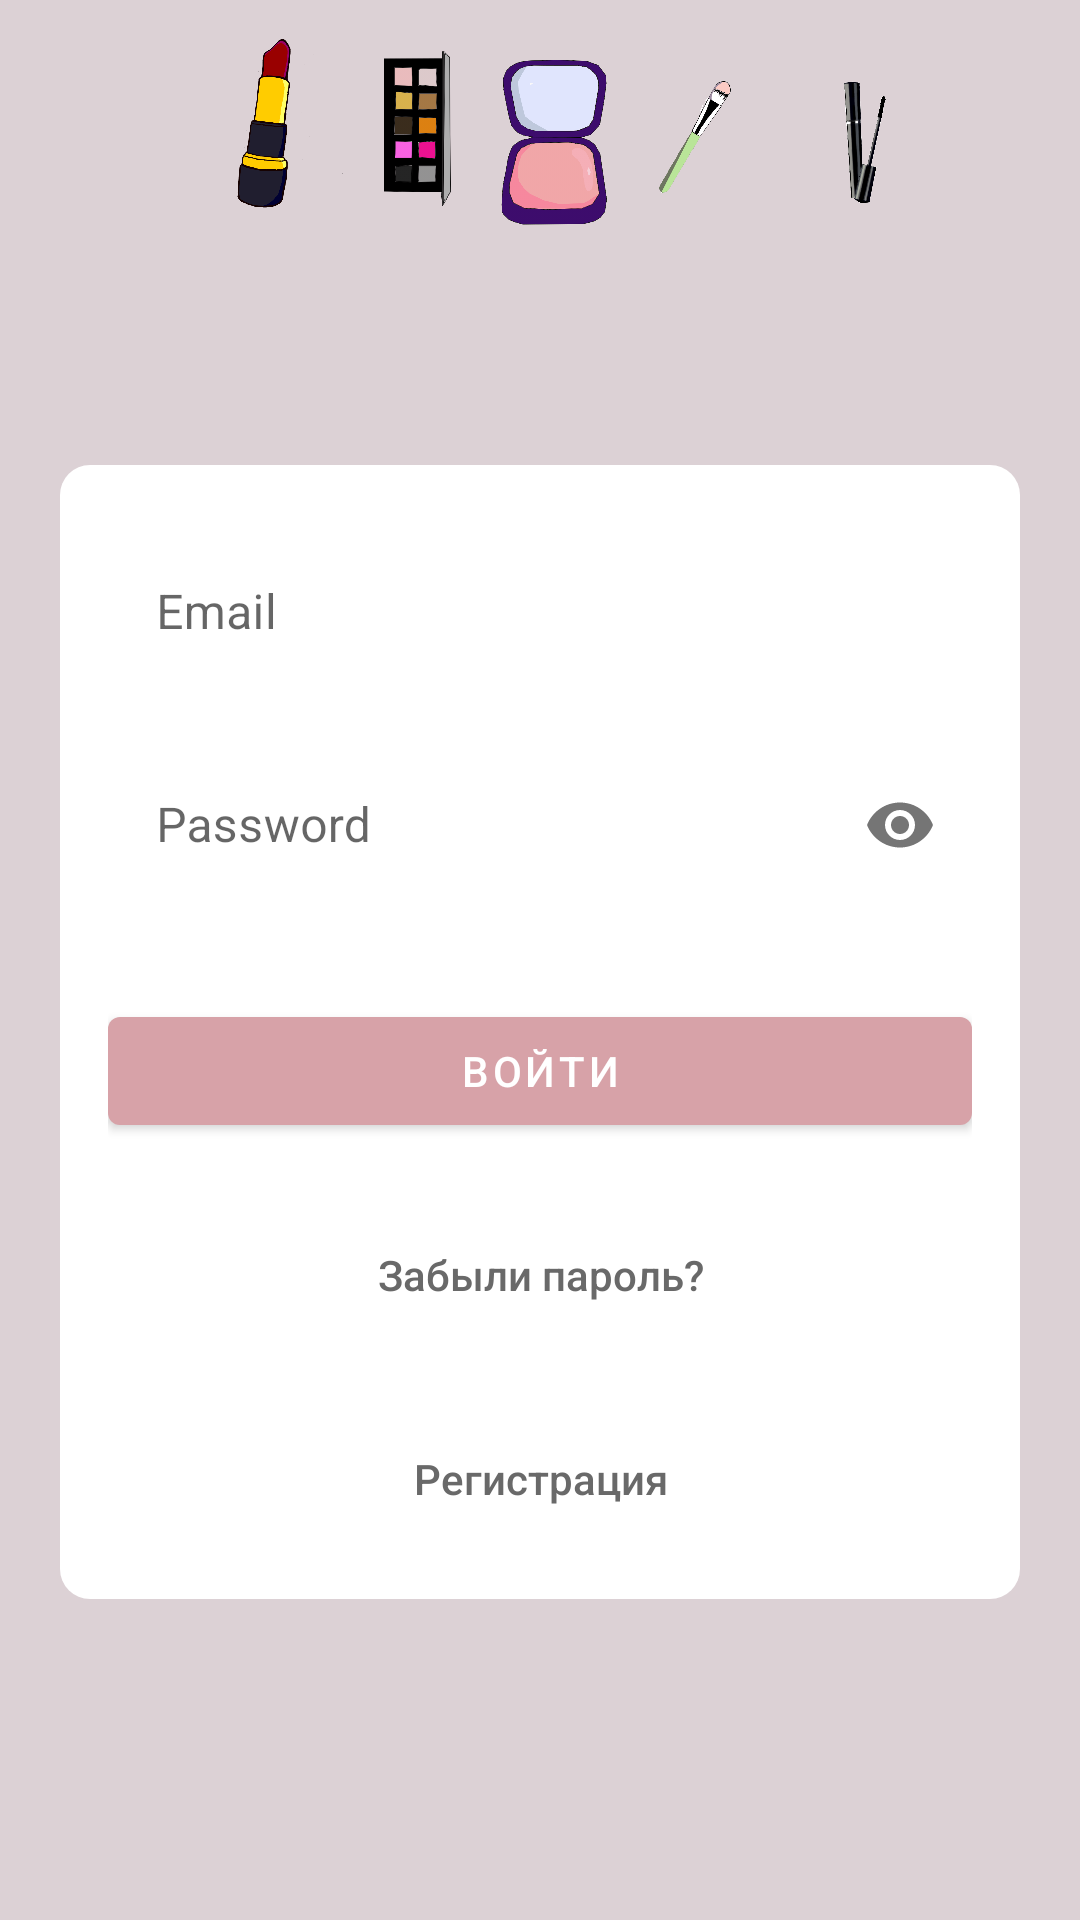

Icons on this 1080 x 1920 Android screen, each with its box as (x1, y1, x2, y2):
blush: (501, 60, 607, 225)
brush: (659, 81, 731, 193)
eyeshadow: (342, 51, 451, 206)
lipstick: (237, 39, 291, 208)
mascara: (844, 82, 886, 203)
